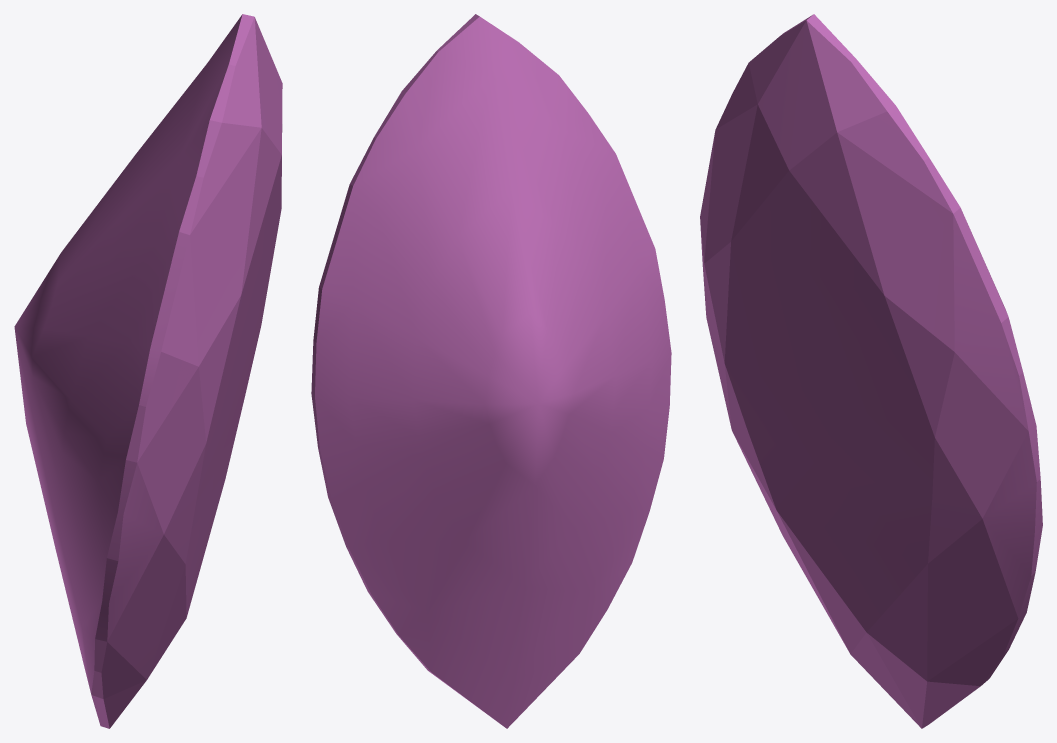
The model's file is TR3_8shapes_Marquise_Classic_Stone.001 2.glb.
The picture shows the model from 3 angles, left to right: view 1: azimuth 30°, elevation 25°; view 2: azimuth 150°, elevation 25°; view 3: azimuth 270°, elevation 25°; orthographic projection. The views are drawn at different scales.
Parts seen in each view (by area): view 1: TR3_8shapes_Marquise_Classic_Stone.001; view 2: TR3_8shapes_Marquise_Classic_Stone.001; view 3: TR3_8shapes_Marquise_Classic_Stone.001.
Part boxes in pixels (x1,y1,x2,y2): TR3_8shapes_Marquise_Classic_Stone.001: (14,14,282,728); TR3_8shapes_Marquise_Classic_Stone.001: (311,14,671,728); TR3_8shapes_Marquise_Classic_Stone.001: (700,14,1042,728).
Size of the model in its own units: 0.2601 by 0.6994 by 0.2877.
